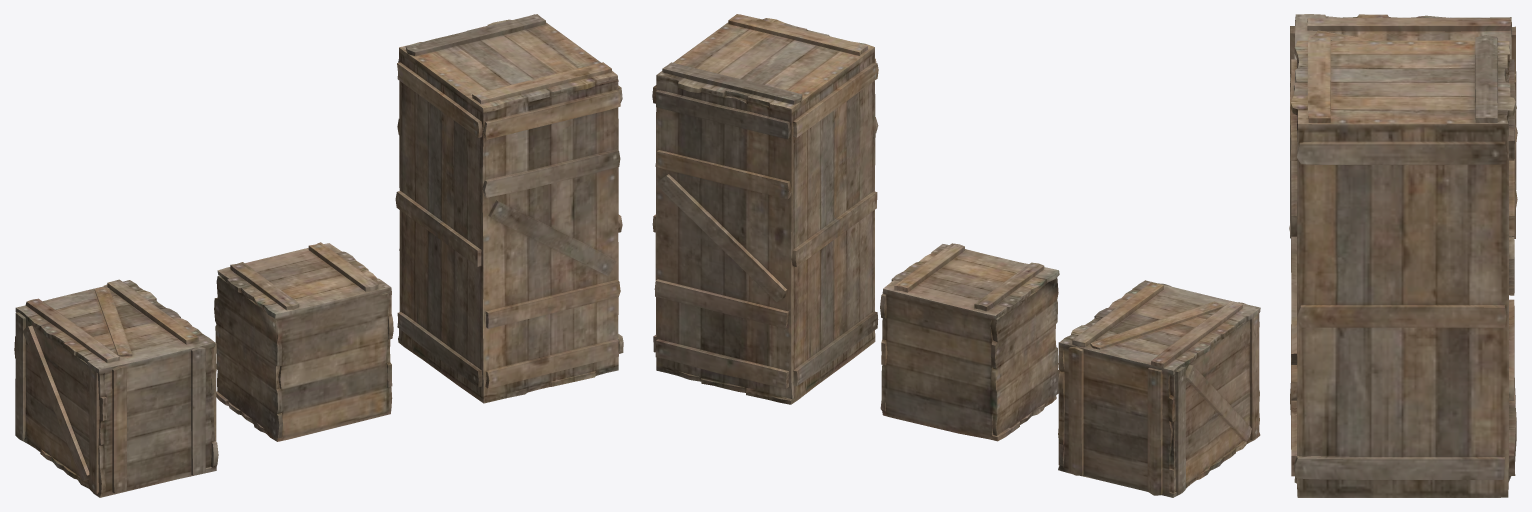
File: crate.glb
The picture shows the model from 3 angles, left to right: view 1: azimuth 30°, elevation 25°; view 2: azimuth 150°, elevation 25°; view 3: azimuth 270°, elevation 25°; orthographic projection. The views are drawn at different scales.
Visible parts, largest first — view 1: box, box2, box1; view 2: box, box2, box1; view 3: box, box2.
Part boxes in pixels (bbox=[...]): box: bbox=[395, 14, 623, 403]; box2: bbox=[14, 279, 218, 497]; box1: bbox=[214, 242, 393, 441]; box: bbox=[652, 14, 878, 404]; box2: bbox=[1058, 280, 1260, 497]; box1: bbox=[880, 243, 1059, 441]; box: bbox=[1290, 35, 1516, 497]; box2: bbox=[1289, 14, 1517, 238].
Size of the model in its own units: 1.14 by 0.6217 by 0.338.
1 material, 1 textured.
